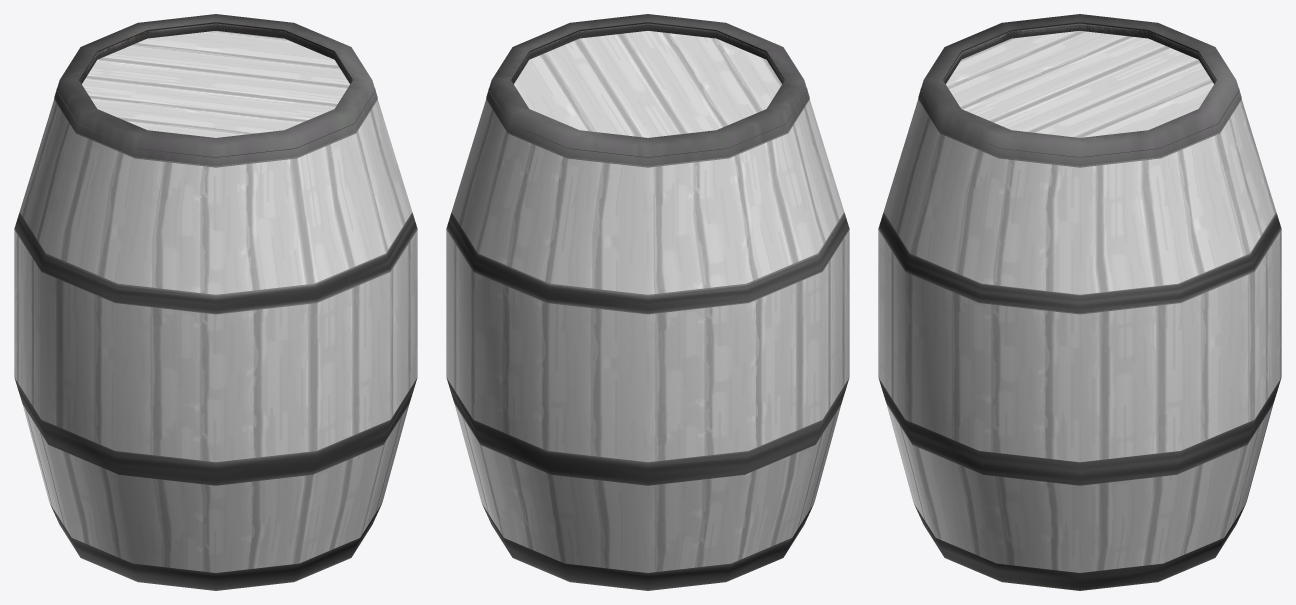
File: Chest.fbx
The picture shows the model from 3 angles, left to right: view 1: azimuth 30°, elevation 25°; view 2: azimuth 150°, elevation 25°; view 3: azimuth 270°, elevation 25°; orthographic projection.
Visible parts, largest first — view 1: Crate, Lid; view 2: Crate, Lid; view 3: Crate, Lid.
Part boxes in pixels (bbox=[...]): Crate: bbox=[14, 23, 417, 590]; Lid: bbox=[54, 14, 377, 166]; Crate: bbox=[446, 23, 849, 590]; Lid: bbox=[486, 14, 809, 166]; Crate: bbox=[878, 23, 1281, 590]; Lid: bbox=[918, 14, 1241, 166].
Bounding box in the file's own units: 1.76 × 2.14 × 1.76.
2 materials, 2 textured.
